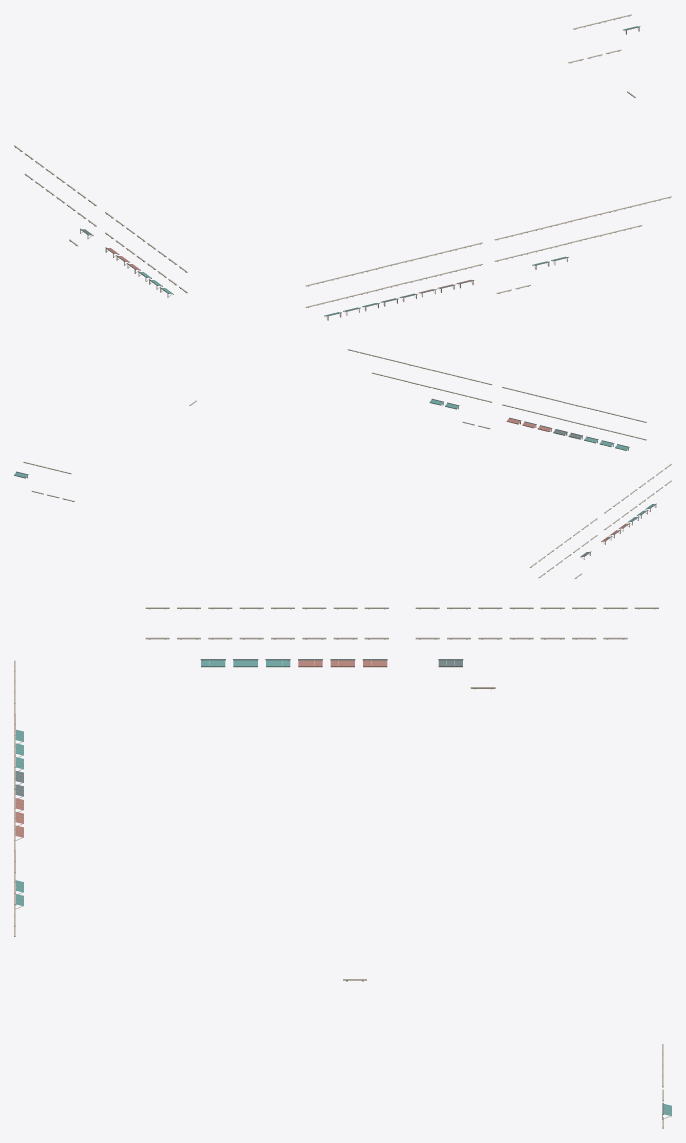
File: slos-hq.glb
3 views of the same model, one above another, from view 1: azimuth 30°, elevation 25°; view 2: azimuth 150°, elevation 25°; view 3: azimuth 270°, elevation 25° (orthographic). The views are drawn at different scales.
Visible parts, largest first — view 1: stone; view 2: stone, canvas, enamel; view 3: stone, canvas, wine, enamel.
Part boxes in pixels (left/top/right/bottom): stone: left=14, top=14, right=671, bottom=307; stone: left=23, top=349, right=671, bottom=578; canvas: left=14, top=399, right=654, bottom=522; enamel: left=16, top=398, right=656, bottom=557; stone: left=14, top=607, right=663, bottom=1128; canvas: left=15, top=660, right=671, bottom=1116; wine: left=15, top=660, right=387, bottom=837; enamel: left=15, top=659, right=665, bottom=1114.
Bounding box in the file's own units: 99.6 × 8.42 × 60.94.
